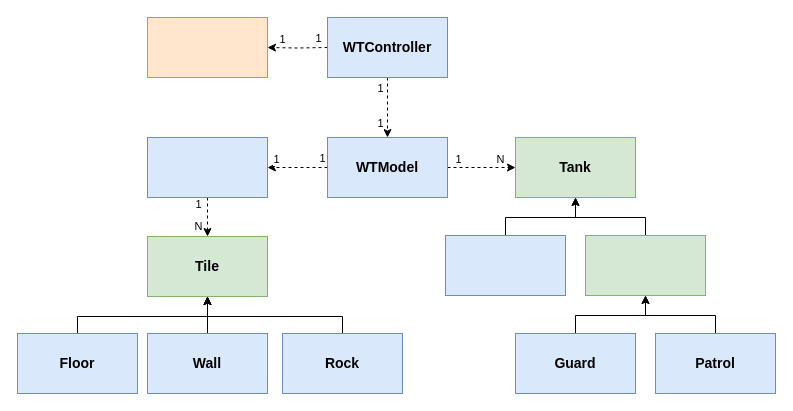
This 793x411 diagram has some shape labels left out. The centre of each missing label's shape, as x and y in pixels:
"Battlefield" goes at point (207, 167).
"Enemy" goes at point (645, 265).
"Player" goes at point (505, 265).
"WTView" goes at point (207, 47).
